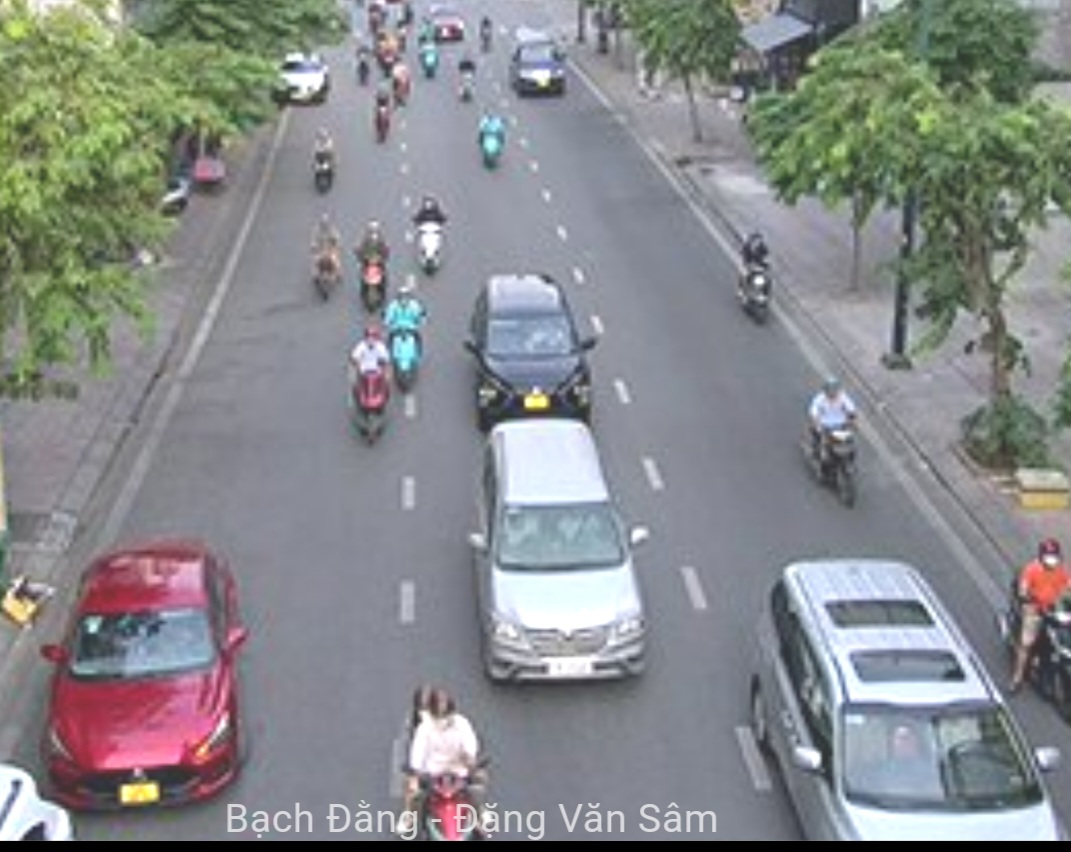car: (751, 561, 1059, 840), (43, 541, 239, 806), (474, 422, 651, 680), (471, 273, 591, 422), (509, 33, 571, 101)
